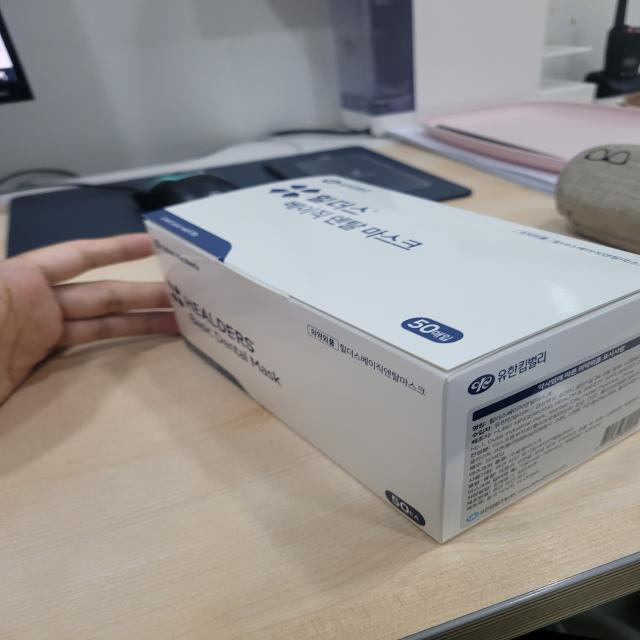mask: (113, 153, 640, 559)
